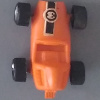carro: (14, 2, 85, 96)
